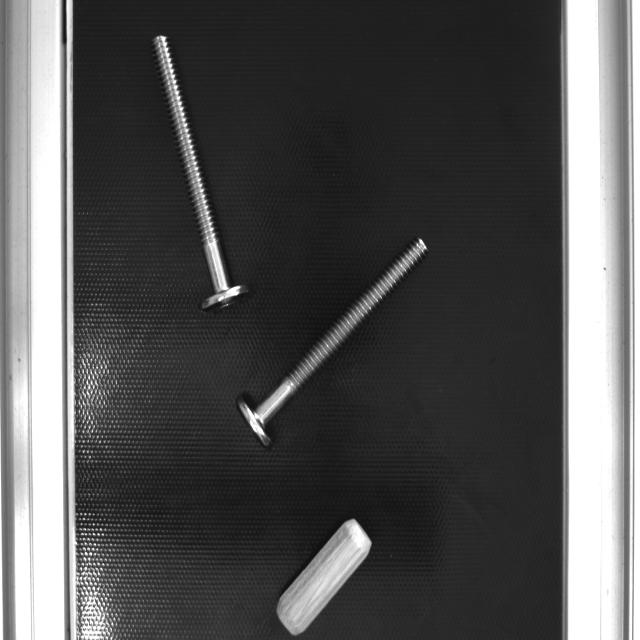Chot go: (271, 512, 377, 639)
bulon: (251, 234, 431, 429), (149, 32, 233, 295)
